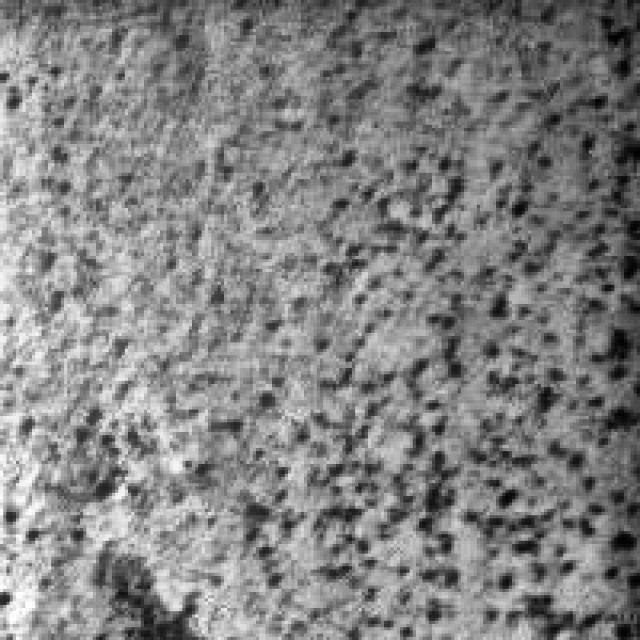Rolled_in_Scale: (278, 25, 637, 630), (42, 55, 284, 628), (61, 442, 340, 634)
